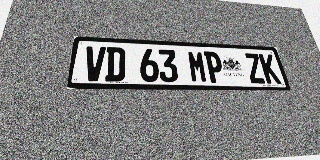3: (158, 49, 178, 82)
6: (140, 48, 159, 82)
D: (105, 47, 125, 82)
K: (258, 54, 281, 84)
M: (187, 51, 208, 83)
P: (204, 51, 225, 83)
V: (83, 46, 106, 81)
Z: (243, 53, 266, 83)
